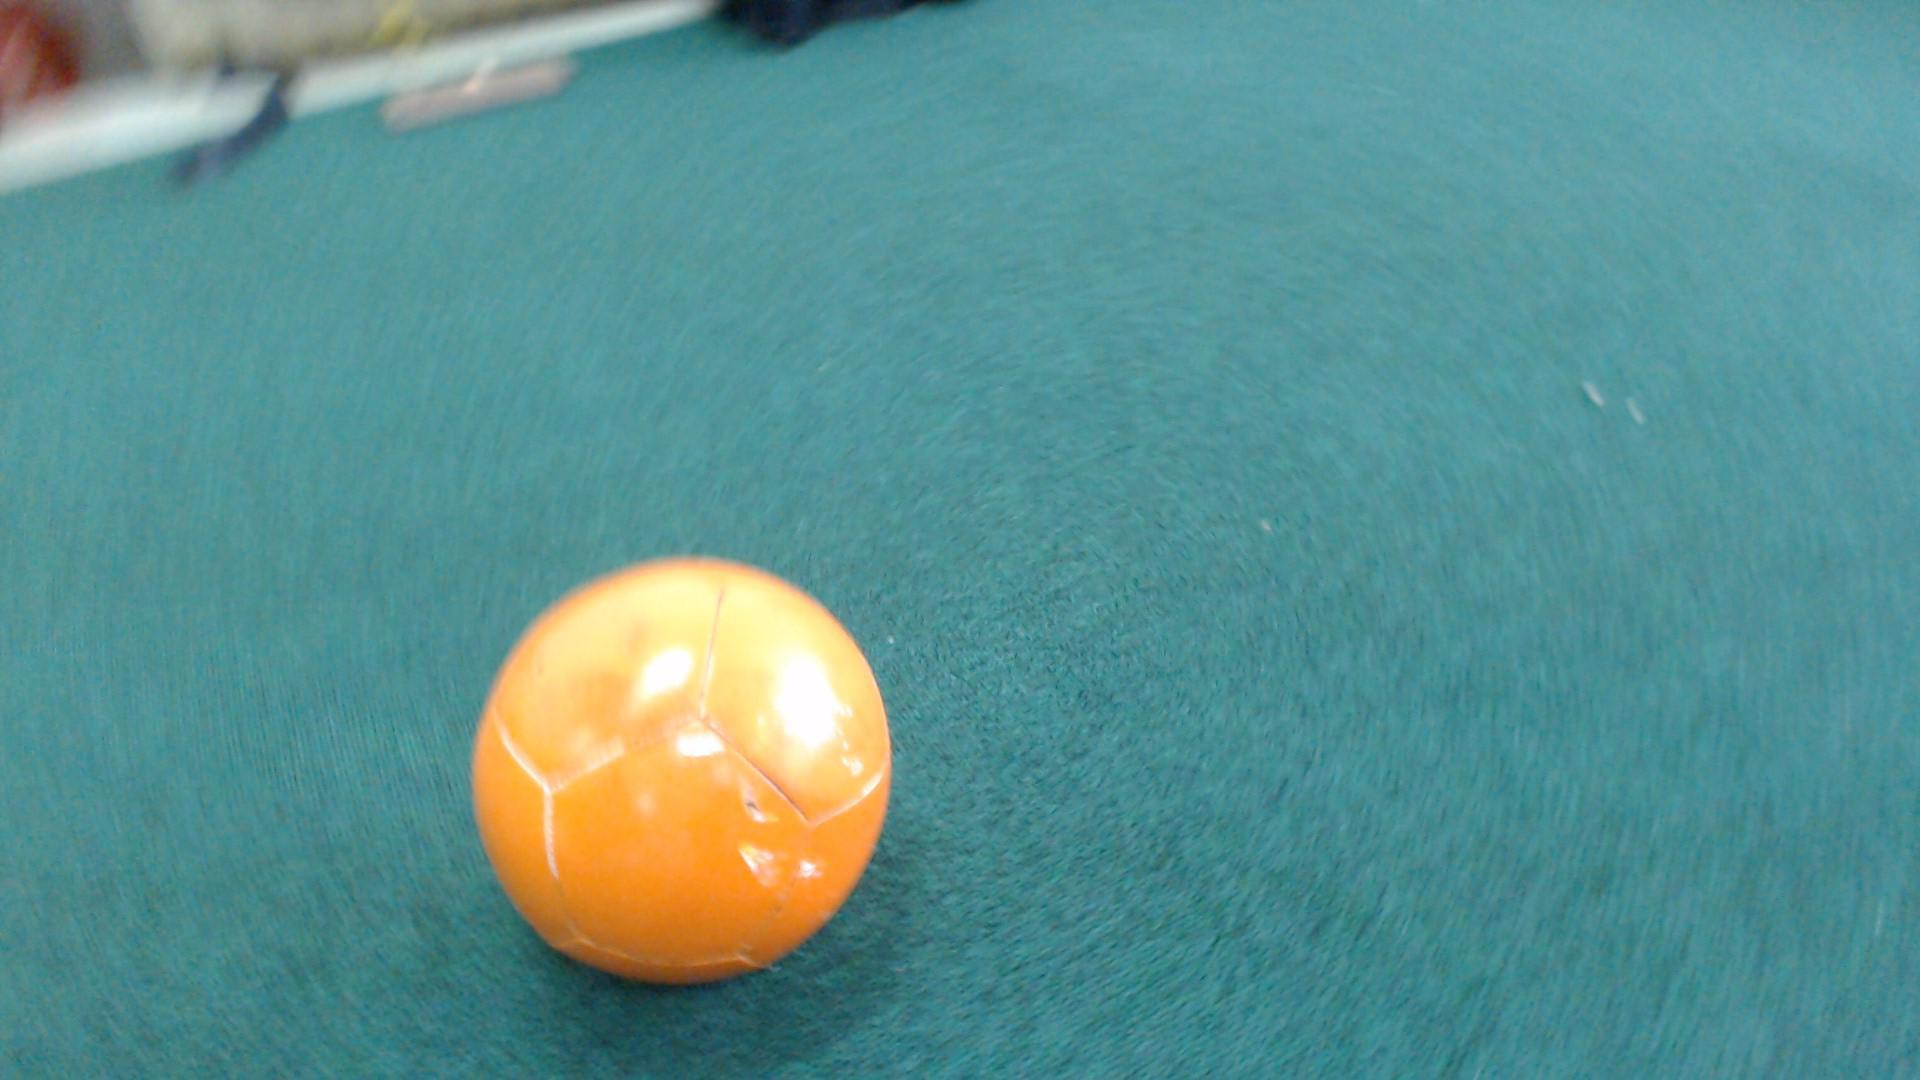bola: (464, 553, 923, 988)
